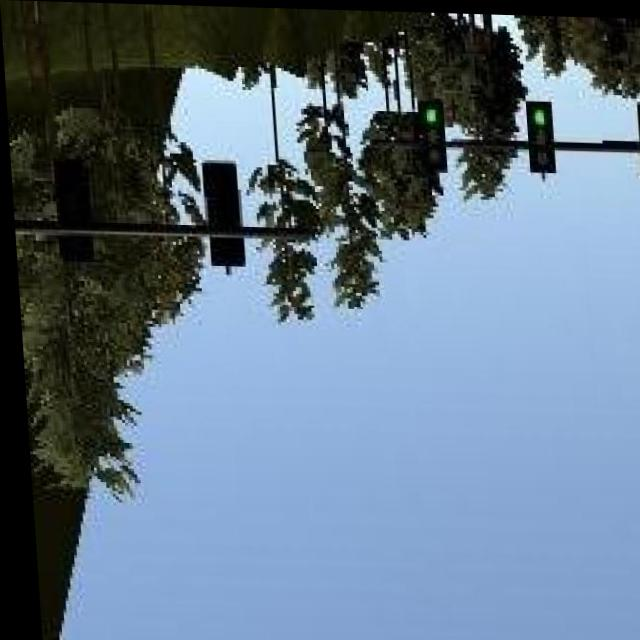green light: (524, 95, 554, 170), (417, 96, 446, 170)
